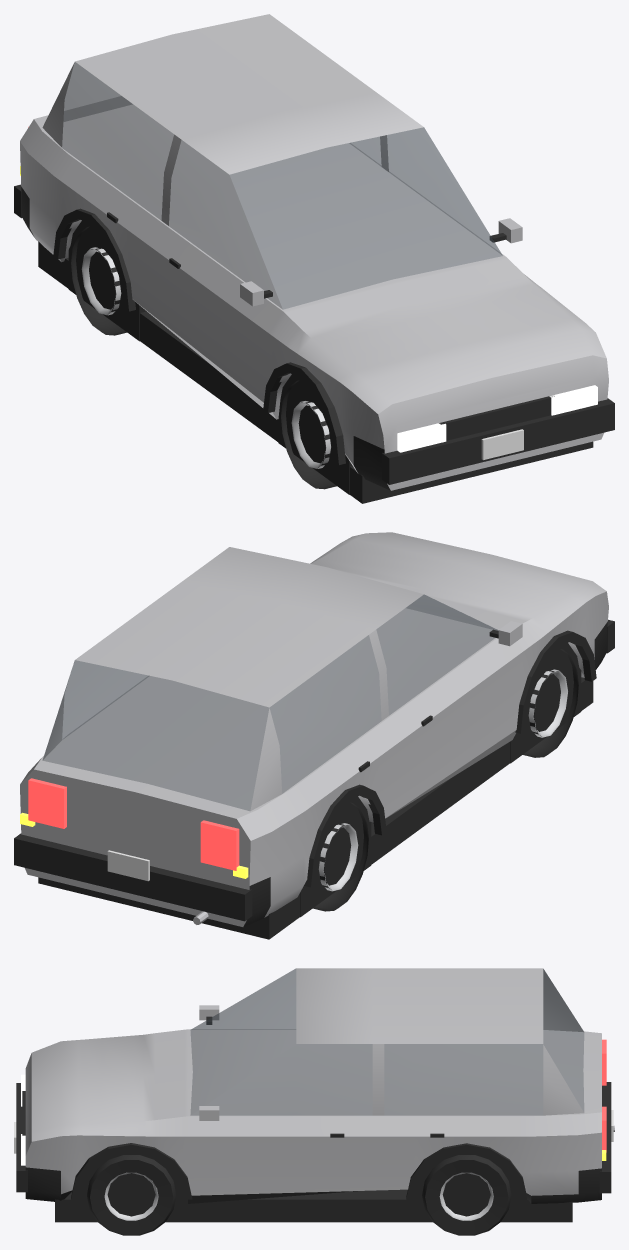
File: suv.glb
3 renders of one model, top to bottom at view 1: azimuth 30°, elevation 25°; view 2: azimuth 150°, elevation 25°; view 3: azimuth 270°, elevation 25°, orthographic. The views are drawn at different scales.
Parts seen in each view (by area): view 1: body, wheel_rl, wheel_fl; view 2: body, wheel_fl, wheel_rl; view 3: body, wheel_rr, wheel_fr.
Boxes of the visible parts, x1,y1,x2,y2 form: body: (14,14,614,503); wheel_rl: (71,226,126,335); wheel_fl: (281,380,336,489); body: (14,532,614,939); wheel_fl: (523,649,578,757); wheel_rl: (313,802,368,911); body: (14,968,614,1222); wheel_rr: (422,1155,511,1235); wheel_fr: (87,1155,176,1235).
Bounding box in the file's own units: 2.12 × 1.74 × 5.11.
